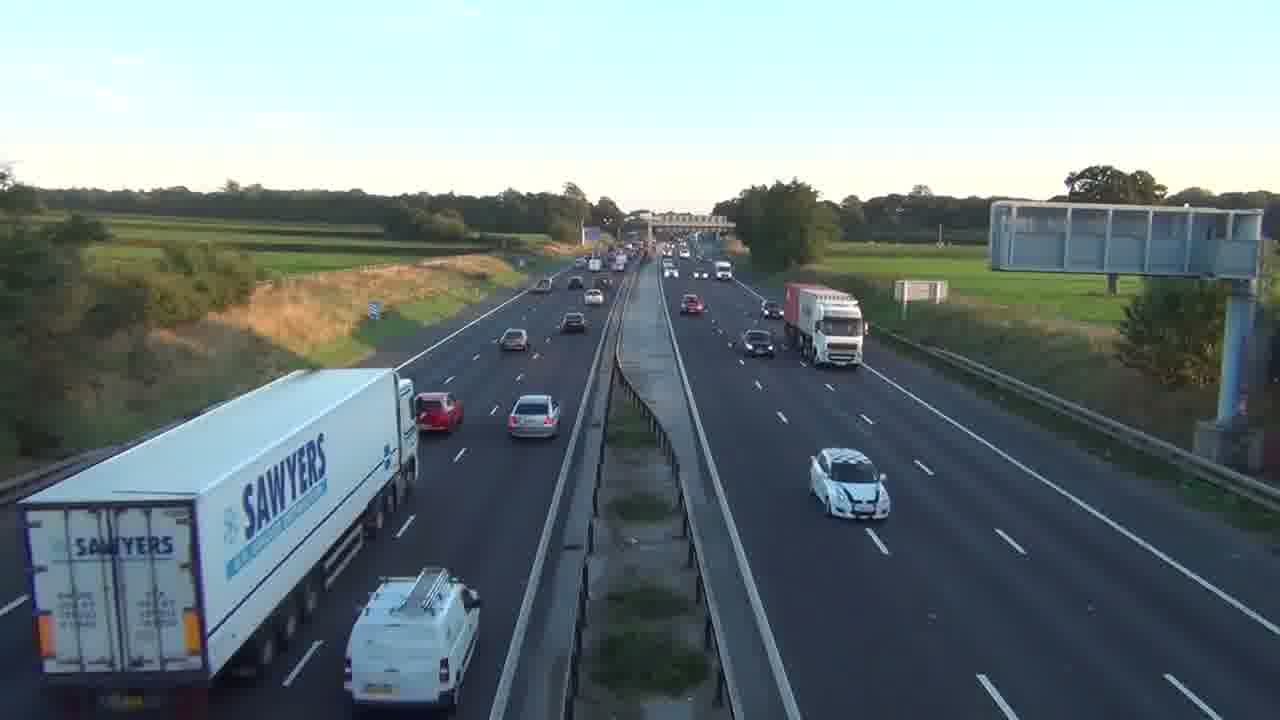car: (809, 446, 892, 521), (506, 393, 562, 439), (414, 390, 464, 434), (743, 328, 775, 358), (498, 328, 529, 351), (559, 310, 587, 334), (680, 292, 706, 316)
truck: (16, 365, 422, 696), (345, 564, 483, 712), (783, 281, 867, 368)
